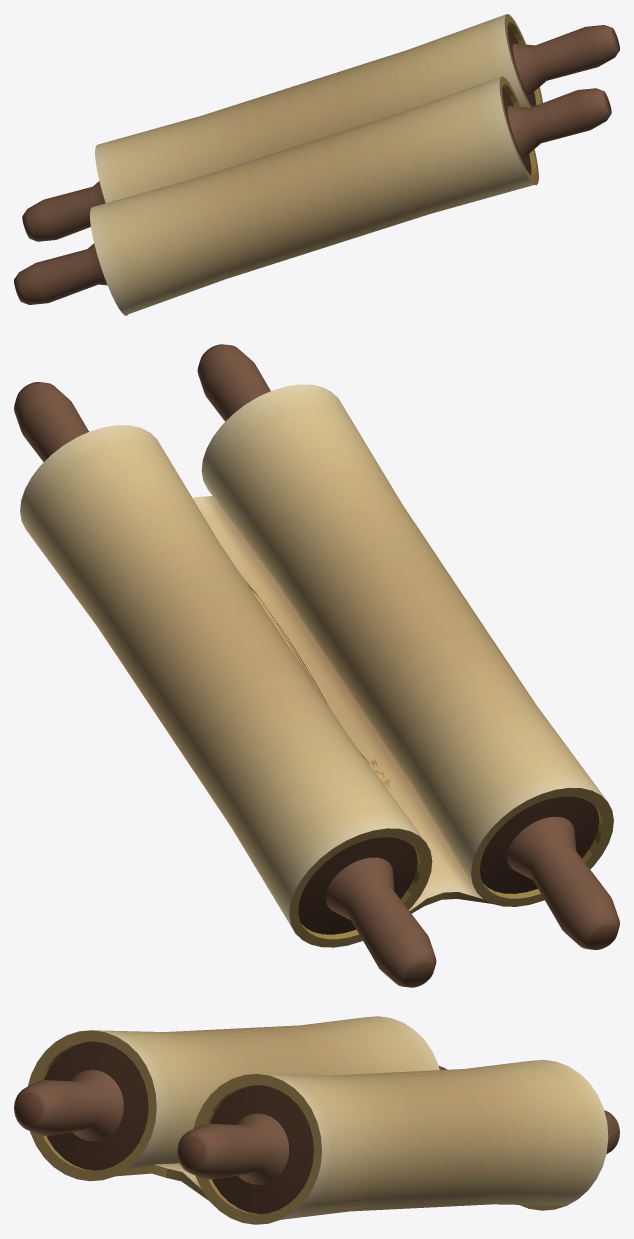
File: Scroll_Furled (3).fbx
3 views of the same model, one above another, from view 1: azimuth 30°, elevation 25°; view 2: azimuth 150°, elevation 25°; view 3: azimuth 270°, elevation 25° (orthographic). The views are drawn at different scales.
Parts seen in each view (by area): view 1: Scroll_Furled (3); view 2: Scroll_Furled (3); view 3: Scroll_Furled (3).
Part boxes in pixels (x1=…): Scroll_Furled (3): x1=14, y1=14, x2=619, y2=315; Scroll_Furled (3): x1=14, y1=344, x2=619, y2=987; Scroll_Furled (3): x1=14, y1=1016, x2=619, y2=1224.
Bounding box in the file's own units: 1.37 × 0.5932 × 1.05.
Materials: 1 (1 with a texture image).
